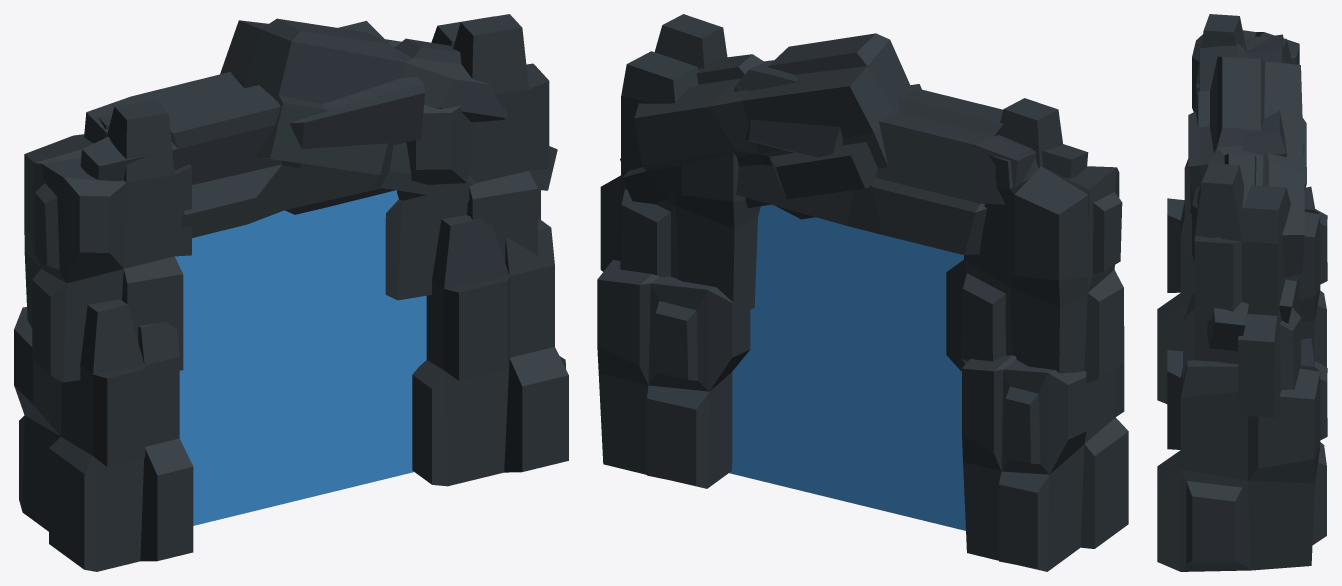
The model's file is WaterFall.fbx.
3 views of the same model, side by side, from view 1: azimuth 30°, elevation 25°; view 2: azimuth 150°, elevation 25°; view 3: azimuth 270°, elevation 25° (orthographic). The views are drawn at different scales.
Visible parts, largest first — view 1: Cube.006, Cube, Cube.003, Cube.001, Cube.004, Cube.002, Cube.005; view 2: Cube.006, Cube.001, Cube, Cube.005, Cube.003, Cube.004, Cube.002; view 3: Cube.003, Cube.002, Cube.005, Cube, Cube.004, Cube.001.
Part boxes in pixels (<box>): Cube.006: <box>175,190,426,525</box>; Cube: <box>14,299,193,571</box>; Cube.003: <box>412,215,568,486</box>; Cube.001: <box>24,99,191,382</box>; Cube.004: <box>80,20,424,237</box>; Cube.002: <box>385,14,549,300</box>; Cube.005: <box>220,18,557,201</box>; Cube.006: <box>729,204,965,530</box>; Cube.001: <box>946,98,1123,383</box>; Cube: <box>962,326,1128,571</box>; Cube.005: <box>620,33,921,219</box>; Cube.003: <box>597,259,750,488</box>; Cube.004: <box>734,60,1088,254</box>; Cube.002: <box>600,14,760,317</box>; Cube.003: <box>1157,338,1327,571</box>; Cube.002: <box>1183,163,1301,417</box>; Cube.005: <box>1190,56,1306,351</box>; Cube: <box>1157,186,1327,403</box>; Cube.004: <box>1188,34,1304,197</box>; Cube.001: <box>1184,14,1299,256</box>.
Bounding box in the file's own units: 1662 × 1460 × 545.
